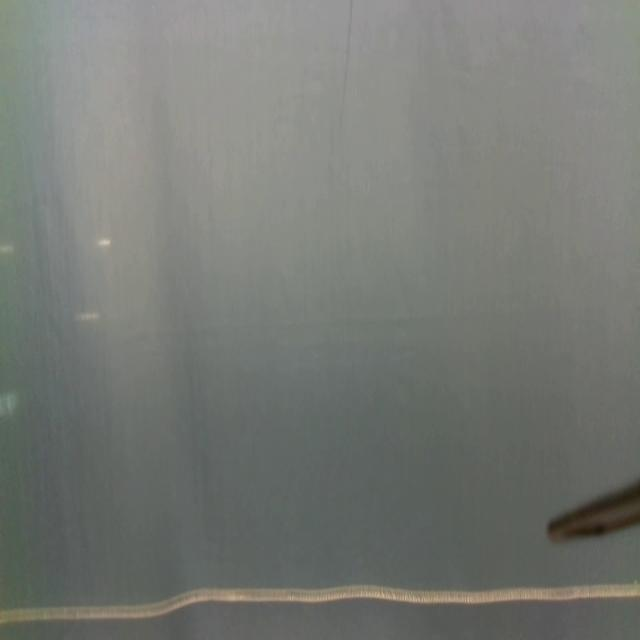crease: (340, 0, 354, 123)
